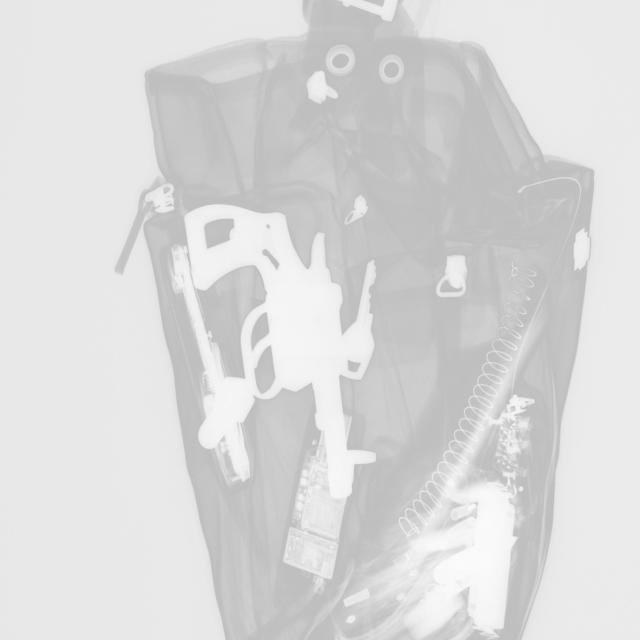pistol: (180, 198, 357, 506)
